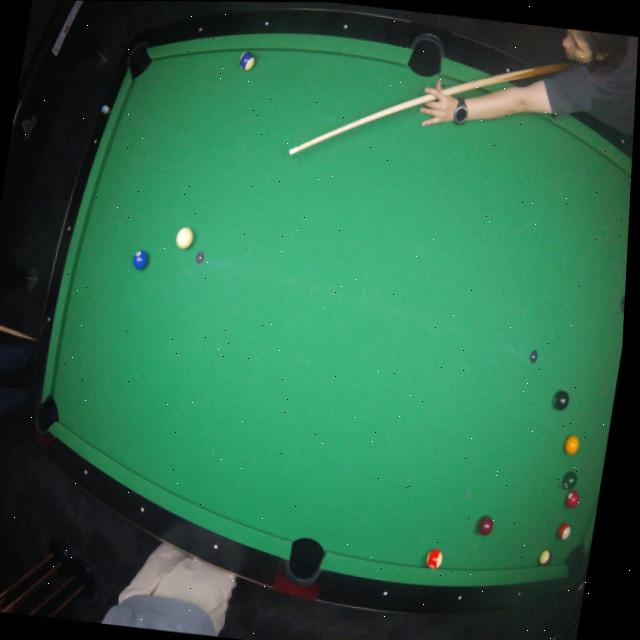cue ball: (174, 224, 195, 252)
other: (236, 48, 260, 76), (550, 385, 572, 415), (130, 247, 153, 272), (423, 546, 443, 571), (475, 514, 495, 536), (562, 433, 581, 455), (560, 469, 578, 490), (554, 520, 571, 541), (536, 549, 553, 568), (563, 489, 579, 509)
